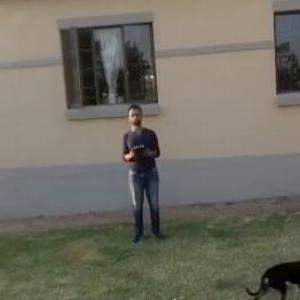follow: (120, 100, 167, 247)
null: (240, 254, 300, 299)
